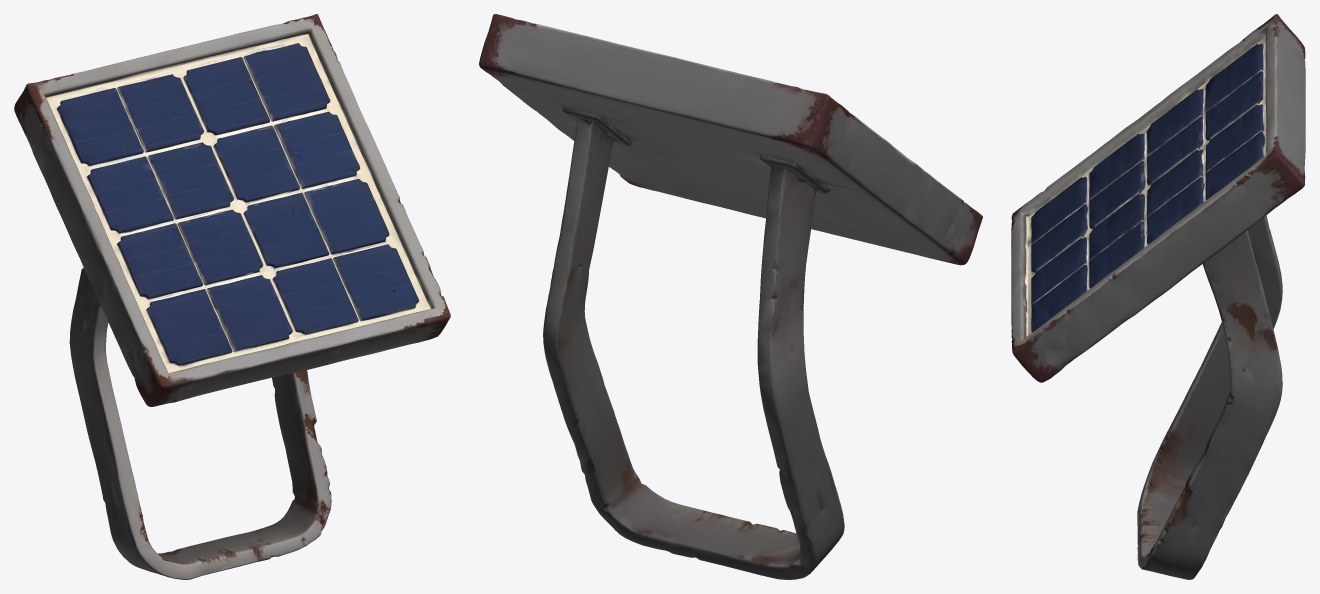
The model's file is solar_panel_malaya_100_vt_idle.glb.
3 views of the same model, side by side, from view 1: azimuth 30°, elevation 25°; view 2: azimuth 150°, elevation 25°; view 3: azimuth 270°, elevation 25° (orthographic). The views are drawn at different scales.
Parts seen in each view (by area): view 1: tripo_node_14a42e7c-9af0-4e0d-b499-0706950c595f; view 2: tripo_node_14a42e7c-9af0-4e0d-b499-0706950c595f; view 3: tripo_node_14a42e7c-9af0-4e0d-b499-0706950c595f.
Part boxes in pixels (x1=…): tripo_node_14a42e7c-9af0-4e0d-b499-0706950c595f: x1=14, y1=14, x2=450, y2=579; tripo_node_14a42e7c-9af0-4e0d-b499-0706950c595f: x1=479, y1=14, x2=982, y2=579; tripo_node_14a42e7c-9af0-4e0d-b499-0706950c595f: x1=1011, y1=14, x2=1305, y2=579.
Size of the model in its own units: 0.5192 by 0.8002 by 0.4582.
1 material, 1 textured.
